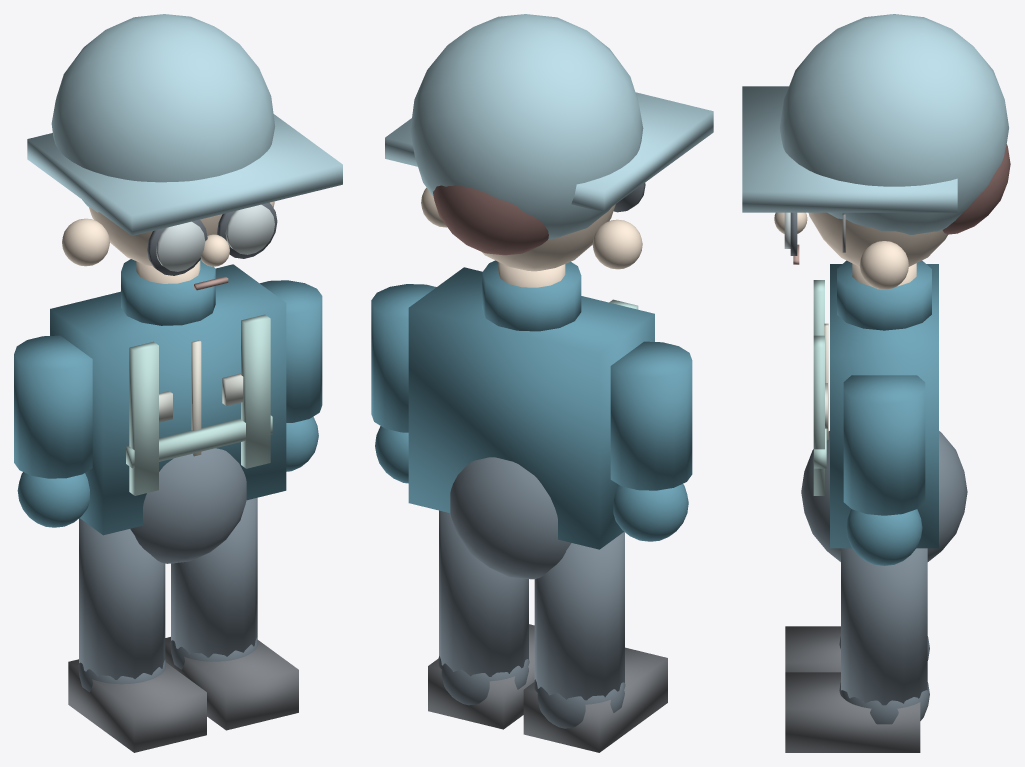
The model's file is mercy_person_04.glb.
The picture shows the model from 3 angles, left to right: view 1: azimuth 30°, elevation 25°; view 2: azimuth 150°, elevation 25°; view 3: azimuth 270°, elevation 25°; orthographic projection. The views are drawn at different scales.
Parts seen in each view (by area): view 1: SkinClothing_10, SkinClothing_0, Arm_Left, Leg_Left, SkinClothing_5, Leg_Right, SkinClothing_1, Boot_Left, Boot_Right, Arm_Right, SkinClothing_2, SkinClothing_7 (+3 smaller); view 2: SkinClothing_0, SkinClothing_10, Arm_Left, Leg_Left, Leg_Right, SkinClothing_1, Arm_Right, Boot_Left, SkinClothing_2, SkinClothing_9, Boot_Right; view 3: SkinClothing_10, SkinClothing_0, Arm_Right, Leg_Right, Boot_Right, SkinClothing_2, SkinClothing_1, SkinClothing_5, Boot_Left, SkinClothing_9.
Part boxes in pixels (box(x1,y1,x2,y2)): SkinClothing_10: box(27, 14, 342, 235); SkinClothing_0: box(50, 259, 286, 535); Arm_Left: box(14, 335, 92, 527); Leg_Left: box(78, 518, 165, 692); SkinClothing_5: box(126, 314, 272, 495); Leg_Right: box(170, 497, 257, 669); SkinClothing_1: box(130, 448, 246, 563); Boot_Left: box(68, 659, 206, 752); Boot_Right: box(165, 637, 298, 730); Arm_Right: box(260, 280, 322, 471); SkinClothing_2: box(62, 201, 274, 283); SkinClothing_7: box(156, 204, 274, 271); SkinClothing_0: box(408, 260, 654, 549); SkinClothing_10: box(385, 14, 713, 239); Arm_Left: box(610, 341, 692, 541); Leg_Left: box(534, 532, 625, 728); Leg_Right: box(438, 510, 529, 705); SkinClothing_1: box(450, 457, 571, 579); Arm_Right: box(371, 284, 436, 483); Boot_Left: box(523, 647, 667, 752); SkinClothing_2: box(421, 187, 642, 287); SkinClothing_9: box(433, 185, 548, 255); Boot_Right: box(428, 624, 534, 729); SkinClothing_10: box(742, 14, 1008, 234); SkinClothing_0: box(830, 260, 938, 548); Arm_Right: box(843, 375, 925, 565); Leg_Right: box(839, 548, 929, 724); Boot_Right: box(785, 672, 920, 752); SkinClothing_2: box(774, 212, 947, 289); SkinClothing_1: box(801, 431, 967, 561); SkinClothing_5: box(813, 280, 826, 495); Boot_Left: box(785, 626, 840, 672); SkinClothing_9: box(942, 144, 1010, 234).
Size of the model in its own units: 1.2 by 2.58 by 0.9122.
